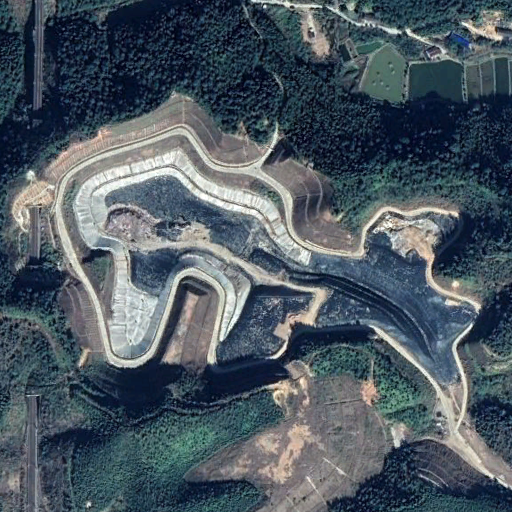lf: (54, 127, 485, 419)
